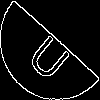U: (25, 25, 79, 84)
